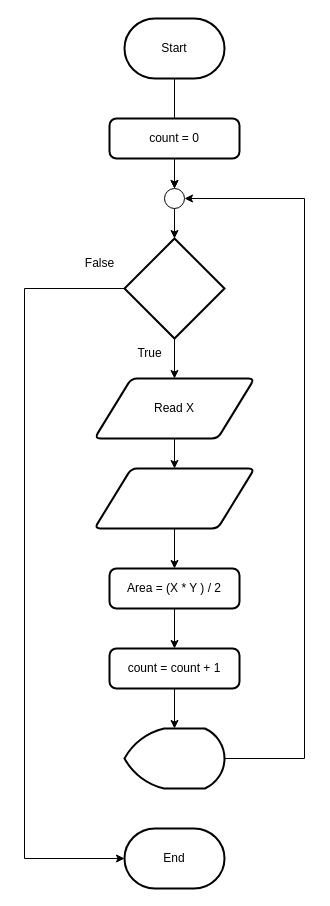
This 330x906 diagram has some shape labels left out. Here are the shapes that lost their labels. From the top down, the centre of each, then its label:
At (x=174, y=288): "count < 11".
At (x=174, y=498): "Read Y".
At (x=174, y=758): "print Area".
